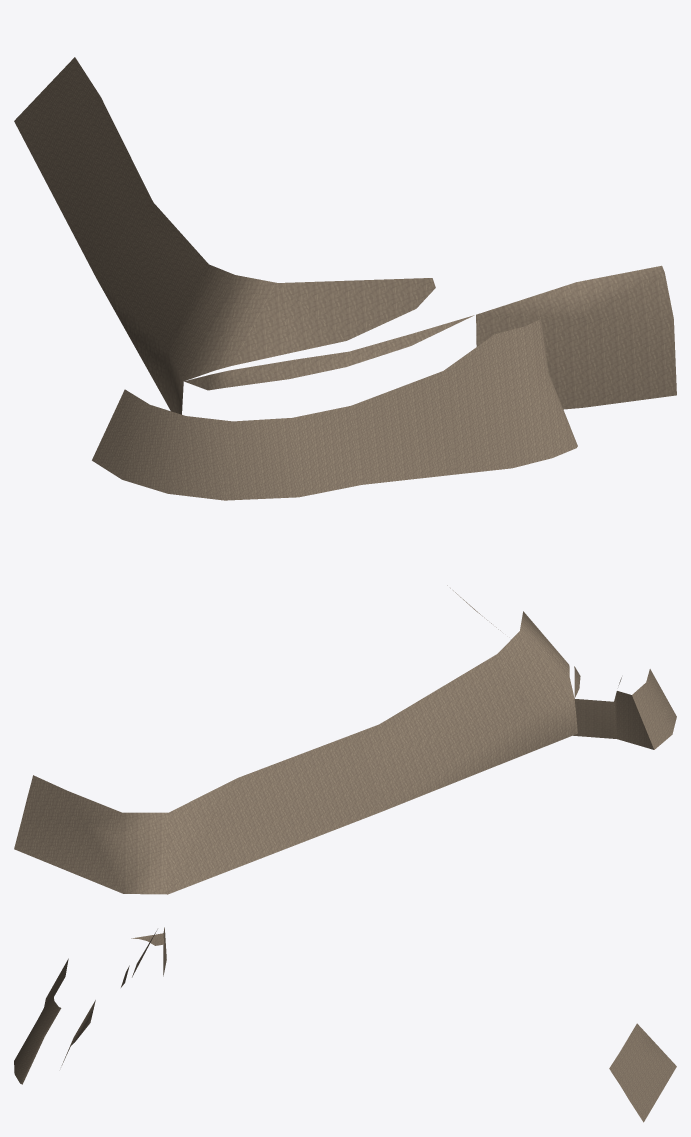
Rendered from kd_stage_1364a3_7_8_bounded.glb.
The picture shows the model from 3 angles, top to bottom: view 1: azimuth 30°, elevation 25°; view 2: azimuth 150°, elevation 25°; view 3: azimuth 270°, elevation 25°; orthographic projection. The views are drawn at different scales.
Parts seen in each view (by area): view 1: kd_stage_1364a3_7_8_bounded; view 2: kd_stage_1364a3_7_8_bounded; view 3: kd_stage_1364a3_7_8_bounded.
Boxes of the visible parts, left/top/right/bottom form: kd_stage_1364a3_7_8_bounded: left=14, top=57, right=676, bottom=500; kd_stage_1364a3_7_8_bounded: left=14, top=585, right=676, bottom=894; kd_stage_1364a3_7_8_bounded: left=14, top=927, right=676, bottom=1122.
Bounding box in the file's own units: 210 × 54.82 × 355.
Materials: 1 (1 with a texture image).
